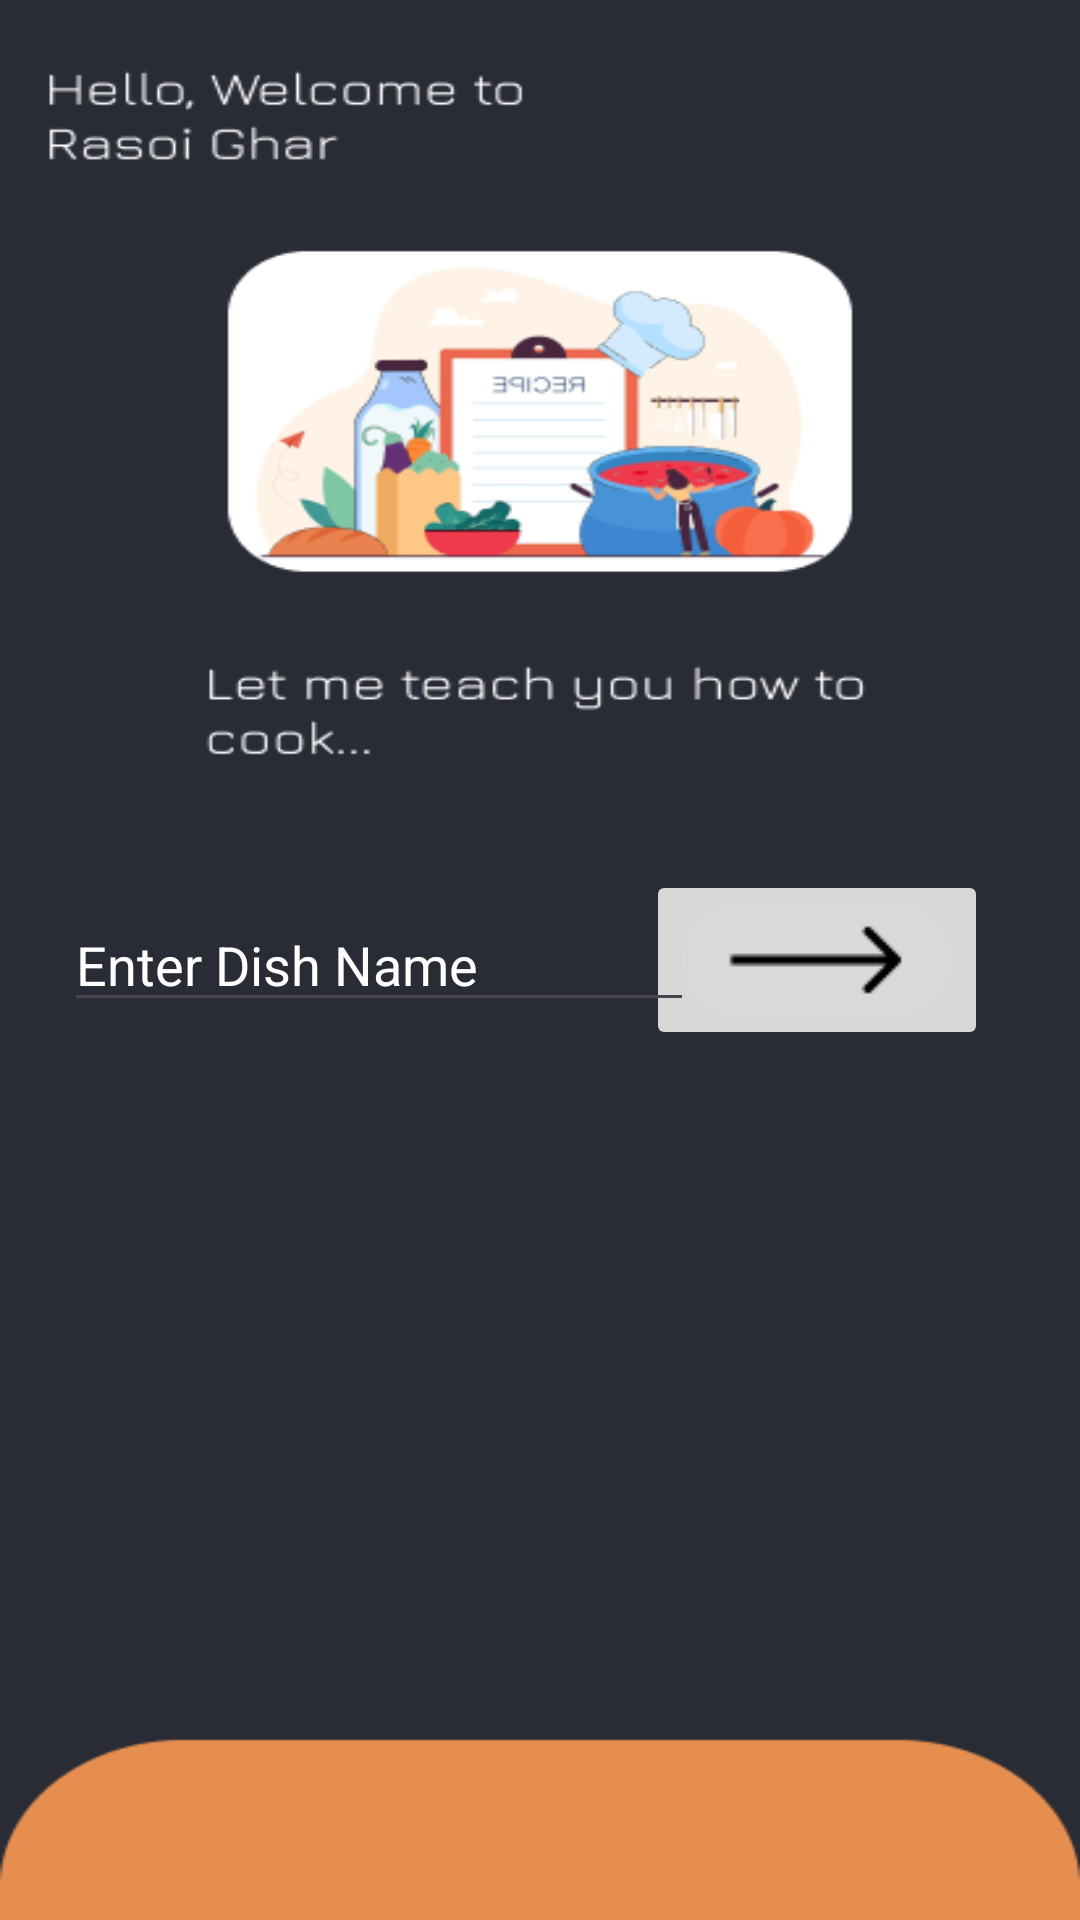

Where to tap for icons on this 1080×1920 app screen, as (x,y):
bigarrow: (811,960)
